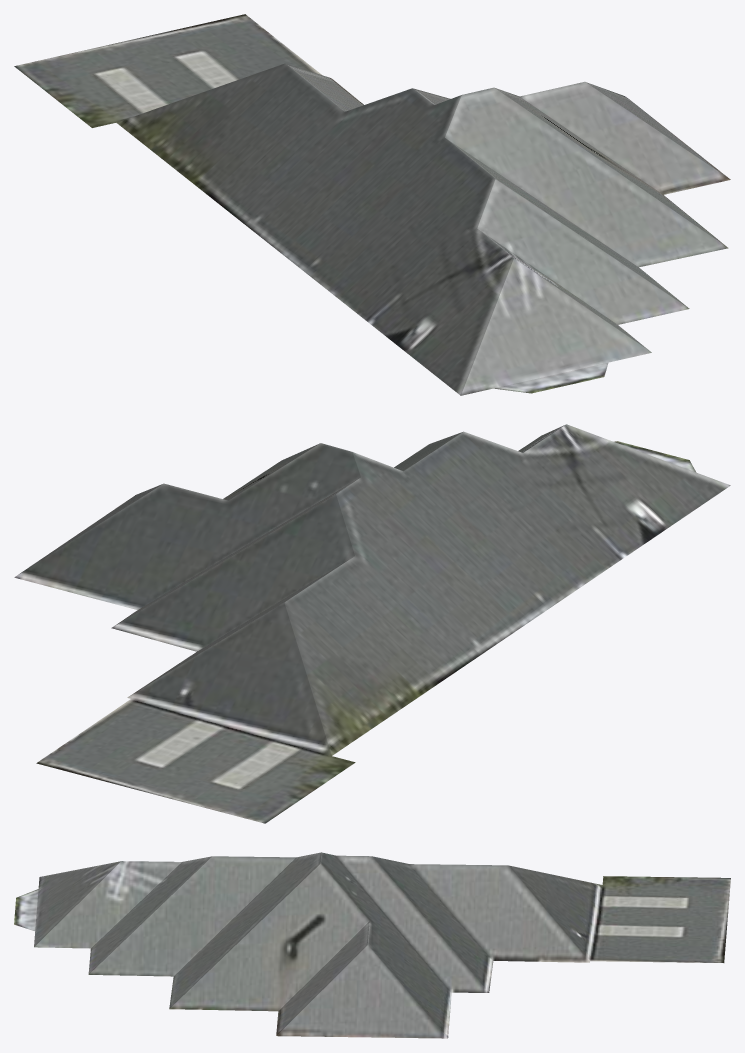
The model's file is CG10_500_040059_0012_roof.obj.
3 views of the same model, one above another, from view 1: azimuth 30°, elevation 25°; view 2: azimuth 150°, elevation 25°; view 3: azimuth 270°, elevation 25° (orthographic). The views are drawn at different scales.
Parts seen in each view (by area): view 1: CG10_500_040059_0012_roof; view 2: CG10_500_040059_0012_roof; view 3: CG10_500_040059_0012_roof.
Part boxes in pixels (x1,y1,x2,y2): CG10_500_040059_0012_roof: [14, 14, 730, 395]; CG10_500_040059_0012_roof: [14, 424, 730, 823]; CG10_500_040059_0012_roof: [14, 852, 730, 1038].
Size of the model in its own units: 259 by 70 by 484.
1 material, 1 textured.
